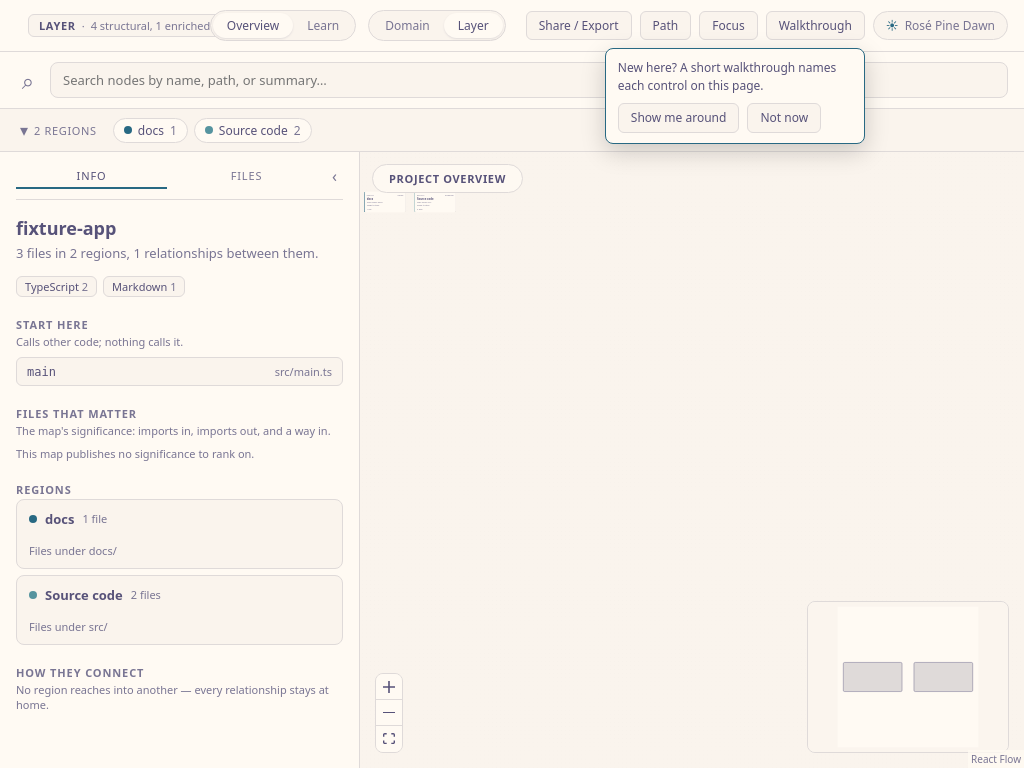
Test: rendering a map file › returns to the overview through the breadcrumb
This screenshot has width=1024, height=768.
What coordinates should you click on to do the following:
click the button "Source code 2"
I would click on:
 (253, 130)
Its box is [194,118,312,142].
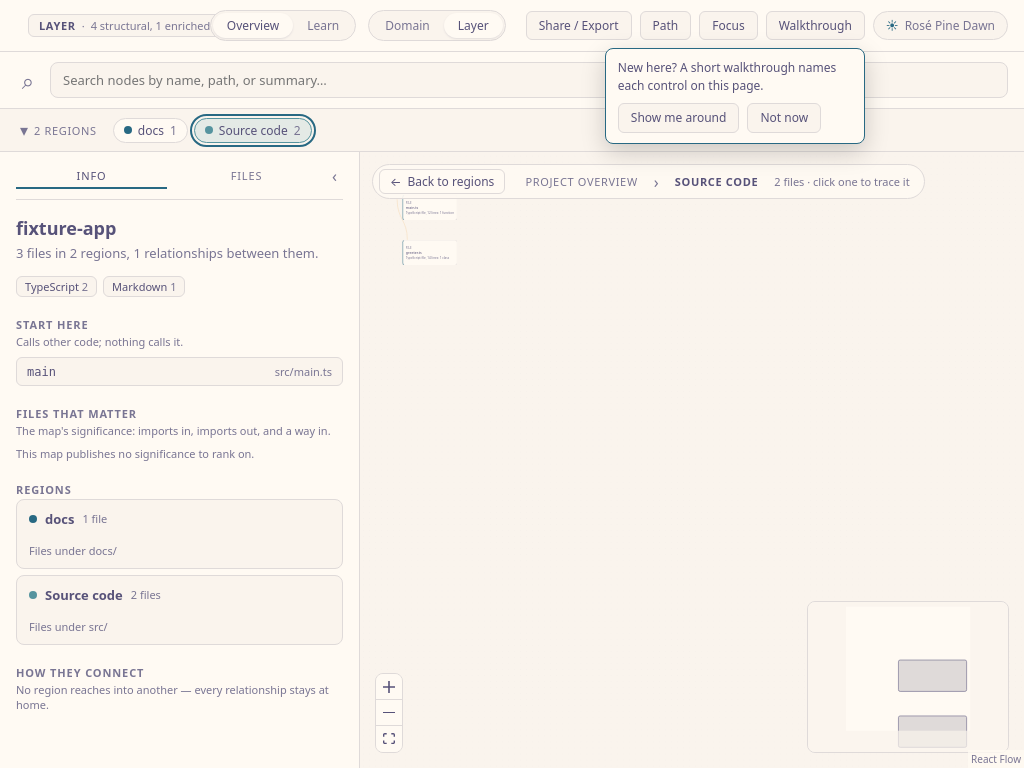
What coordinates should you click on to do the following:
click the button "Project overview"
I would click on:
 (582, 182)
Its box is [515,172,648,191].
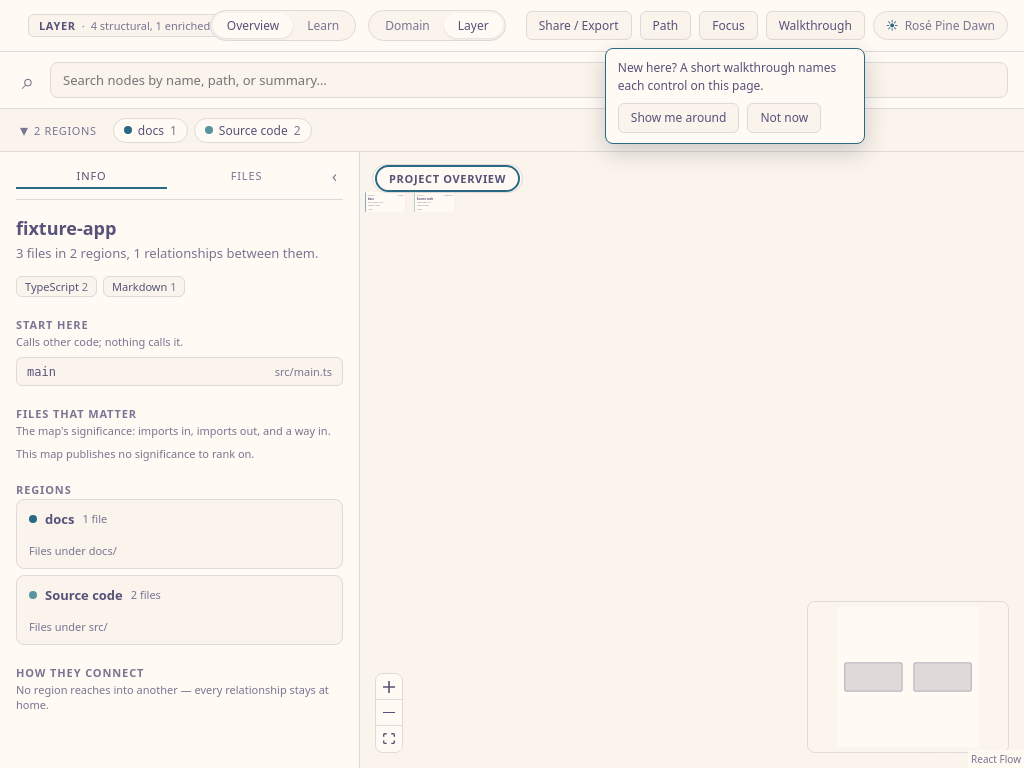
Check: the element with test id "region-src" is shown, box [414,192,455,212]
